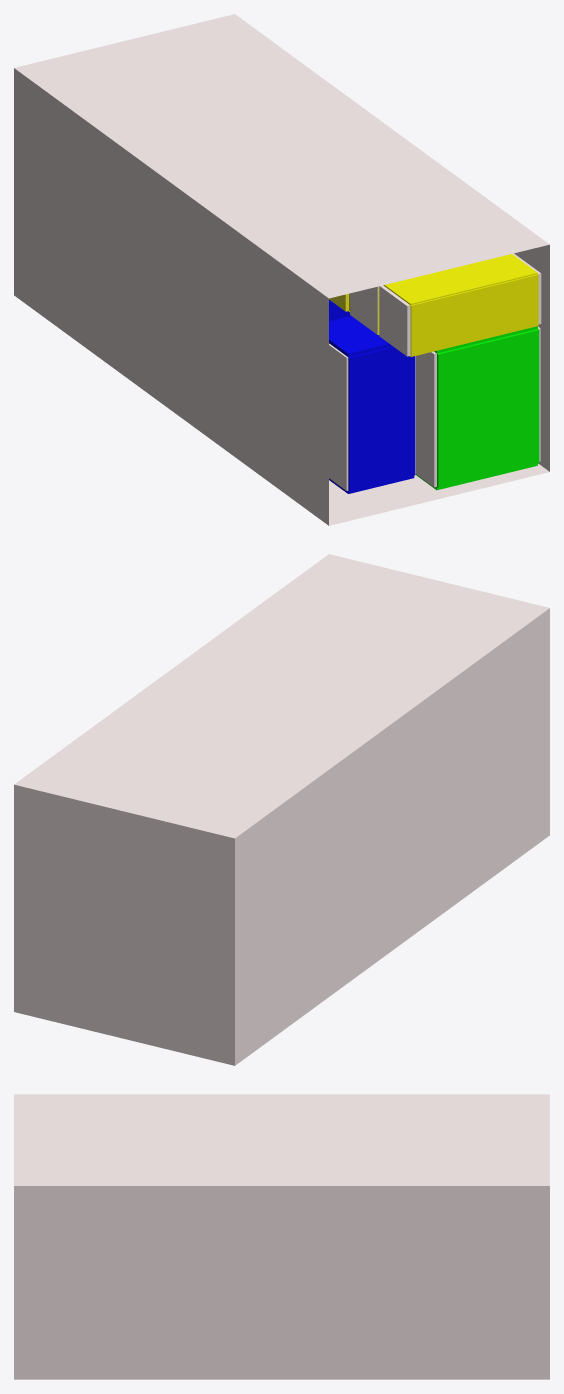
File: Boxes_30.fbx
3 views of the same model, one above another, from view 1: azimuth 30°, elevation 25°; view 2: azimuth 150°, elevation 25°; view 3: azimuth 270°, elevation 25° (orthographic). The views are drawn at different scales.
Parts seen in each view (by area): view 1: bintop, BinIso20Bottom, binleft, front_3, front_5, front_13, binbottom, top_13, top_5; view 2: BinIso20Bottom, bintop, binback; view 3: BinIso20Bottom, binright, bintop.
Part boxes in pixels (<box>): bintop: <box>14,14,549,298</box>; BinIso20Bottom: <box>14,74,549,525</box>; binleft: <box>14,68,324,515</box>; front_3: <box>437,329,539,487</box>; front_5: <box>348,346,415,491</box>; front_13: <box>410,274,538,356</box>; binbottom: <box>329,463,549,525</box>; top_13: <box>383,254,537,305</box>; top_5: <box>329,316,392,357</box>; BinIso20Bottom: <box>235,608,549,1065</box>; bintop: <box>14,554,549,838</box>; binback: <box>14,784,234,1065</box>; BinIso20Bottom: <box>14,1186,549,1379</box>; binright: <box>14,1192,549,1379</box>; bintop: <box>14,1094,549,1185</box>.
Bounding box in the file's own units: 2390 × 2350 × 5900.
